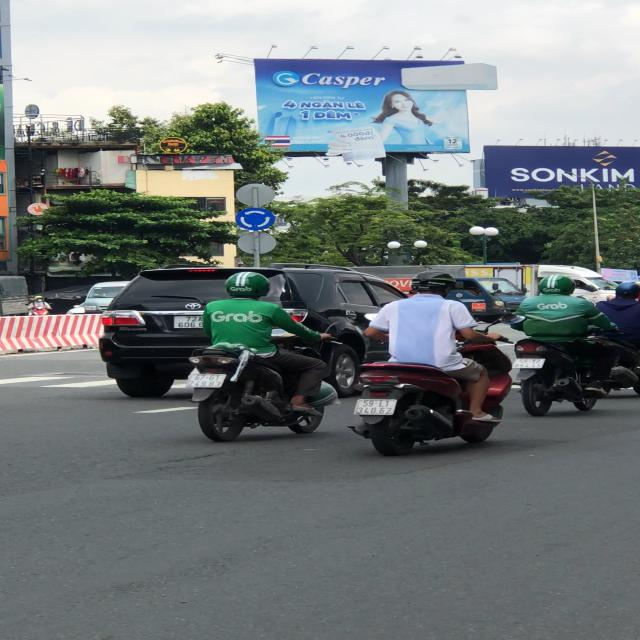Bien bao noi giao nhau chay theo vong xuyen: (231, 204, 281, 232)
